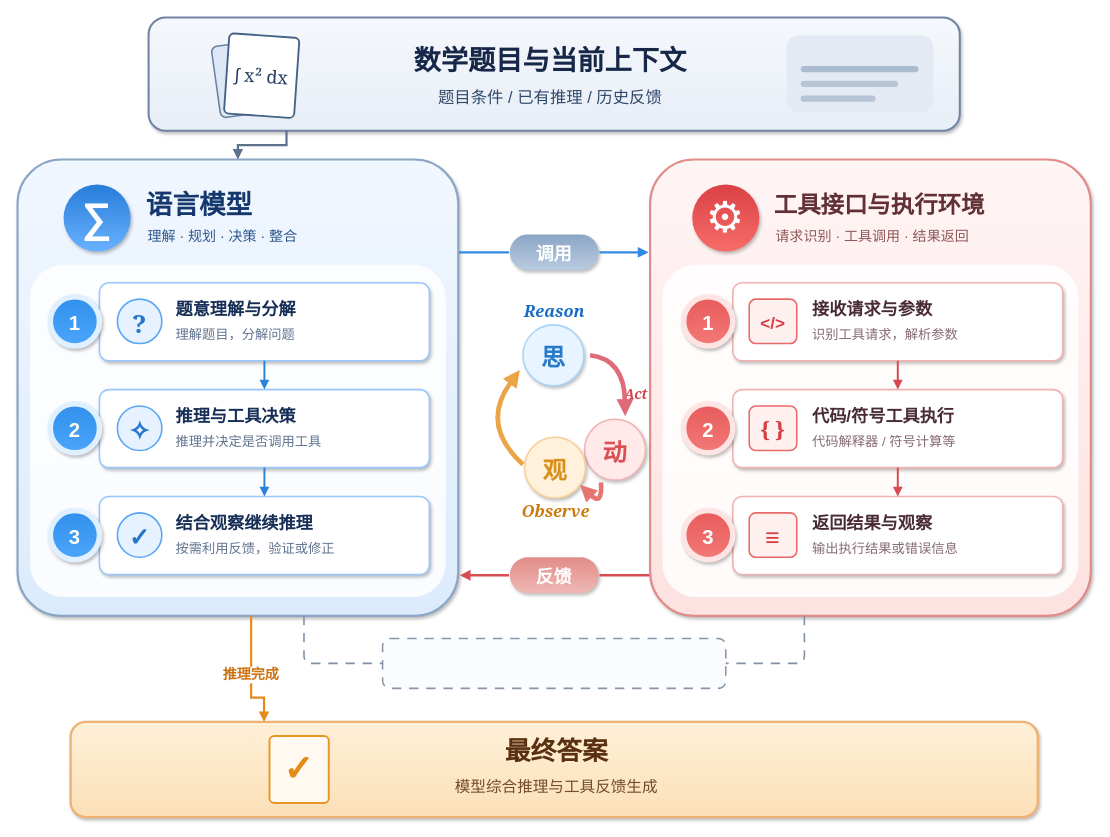
Image size: 1110x837. Some labels were removed from this diagram. The centre of each missing label's shape, as x and y in pixels:
⚙ 交互约束：工具调用预算 / 停止条件: [553,663]
示例: [859,73]
